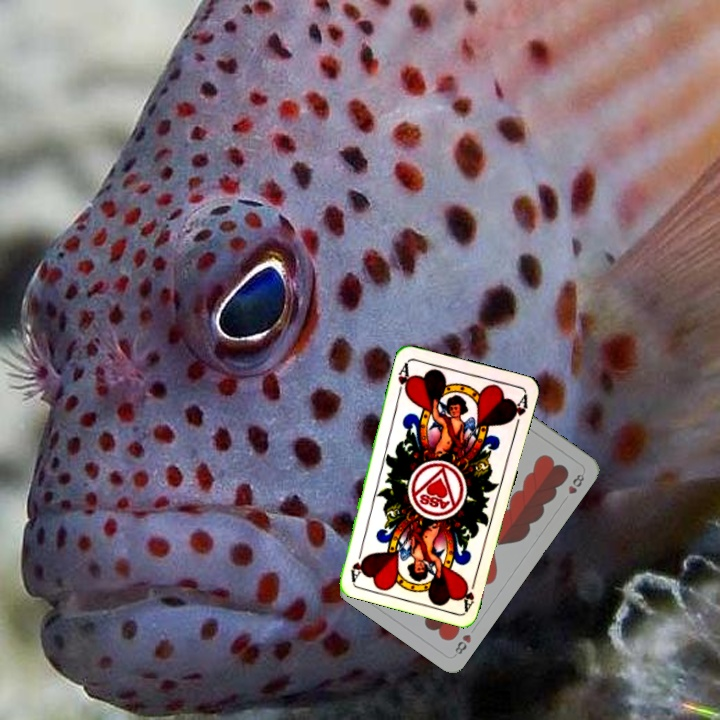H8: (450, 630, 474, 659)
HA: (457, 572, 479, 612), (394, 358, 413, 398)
